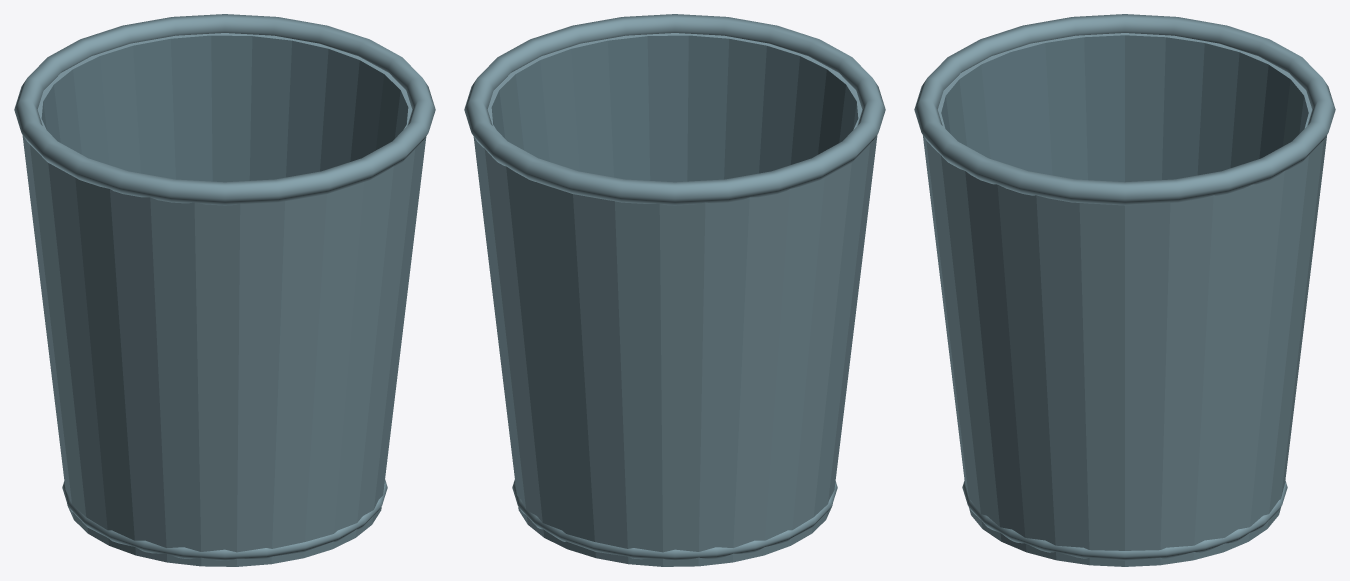
File: bin_small_indoor.glb
The picture shows the model from 3 angles, left to right: view 1: azimuth 30°, elevation 25°; view 2: azimuth 150°, elevation 25°; view 3: azimuth 270°, elevation 25°; orthographic projection.
Parts seen in each view (by area): view 1: Open indoor wastebasket, Rounded wastebasket lip, Wastebasket base band; view 2: Open indoor wastebasket, Rounded wastebasket lip, Wastebasket base band; view 3: Open indoor wastebasket, Rounded wastebasket lip, Wastebasket base band.
Part boxes in pixels (bbox=[...]): Open indoor wastebasket: bbox=[22, 33, 426, 566]; Rounded wastebasket lip: bbox=[14, 14, 435, 205]; Wastebasket base band: bbox=[62, 479, 387, 560]; Open indoor wastebasket: bbox=[473, 33, 877, 566]; Rounded wastebasket lip: bbox=[464, 14, 885, 205]; Wastebasket base band: bbox=[512, 479, 837, 560]; Open indoor wastebasket: bbox=[923, 33, 1326, 566]; Rounded wastebasket lip: bbox=[914, 14, 1335, 205]; Wastebasket base band: bbox=[962, 480, 1287, 560].
Size of the model in its own units: 0.36 by 0.3767 by 0.36.
